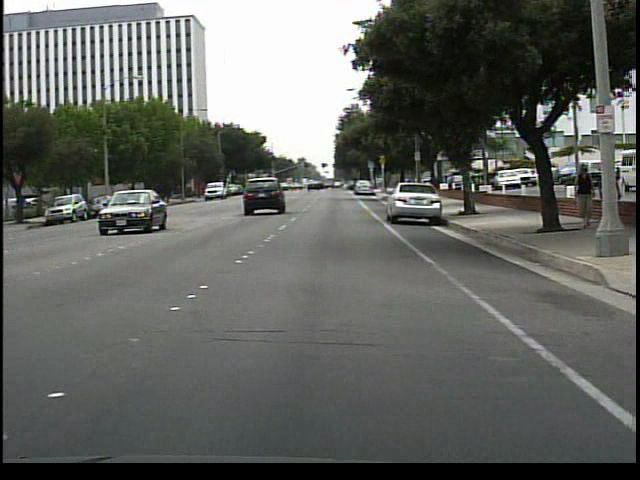person: (568, 158, 595, 232), (600, 161, 620, 228)
